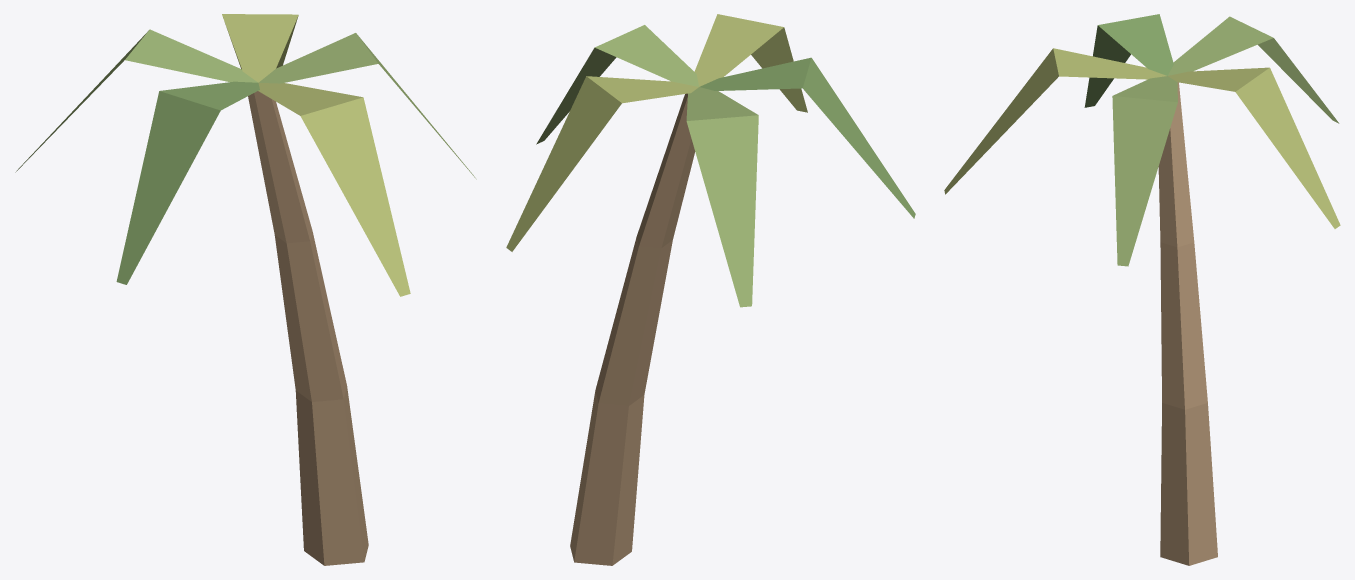
3 renders of one model, left to right at view 1: azimuth 30°, elevation 25°; view 2: azimuth 150°, elevation 25°; view 3: azimuth 270°, elevation 25°, orthographic. The views are drawn at different scales.
Parts seen in each view (by area): view 1: Body; view 2: Body; view 3: Body.
Part boxes in pixels (x1=…): Body: x1=15, y1=14, x2=476, y2=565; Body: x1=506, y1=14, x2=915, y2=565; Body: x1=944, y1=14, x2=1340, y2=565.
Bounding box in the file's own units: 3.5 × 4.63 × 3.65.
